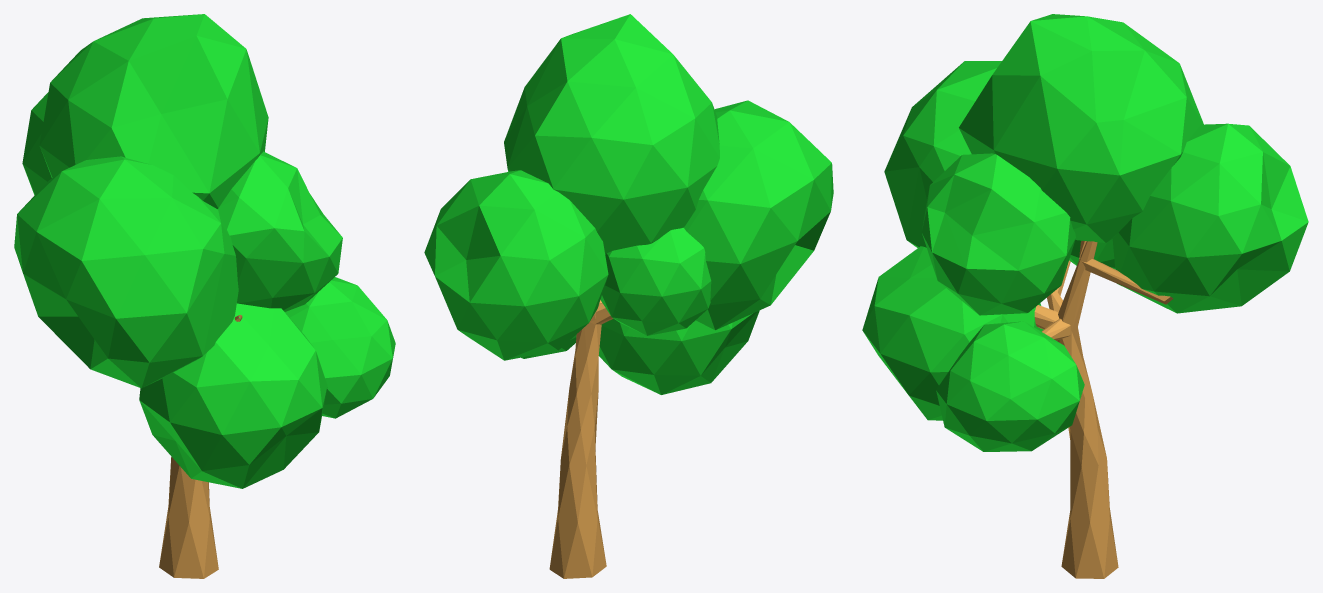
File: simple tree.fbx
The picture shows the model from 3 angles, left to right: view 1: azimuth 30°, elevation 25°; view 2: azimuth 150°, elevation 25°; view 3: azimuth 270°, elevation 25°; orthographic projection. The views are drawn at different scales.
Parts seen in each view (by area): view 1: Icosphere.010; view 2: Icosphere.010; view 3: Icosphere.010.
Part boxes in pixels (bbox=[...]): Icosphere.010: bbox=[14, 14, 395, 578]; Icosphere.010: bbox=[424, 14, 833, 578]; Icosphere.010: bbox=[862, 14, 1308, 578].
Bounding box in the file's own units: 598 × 911 × 687.
